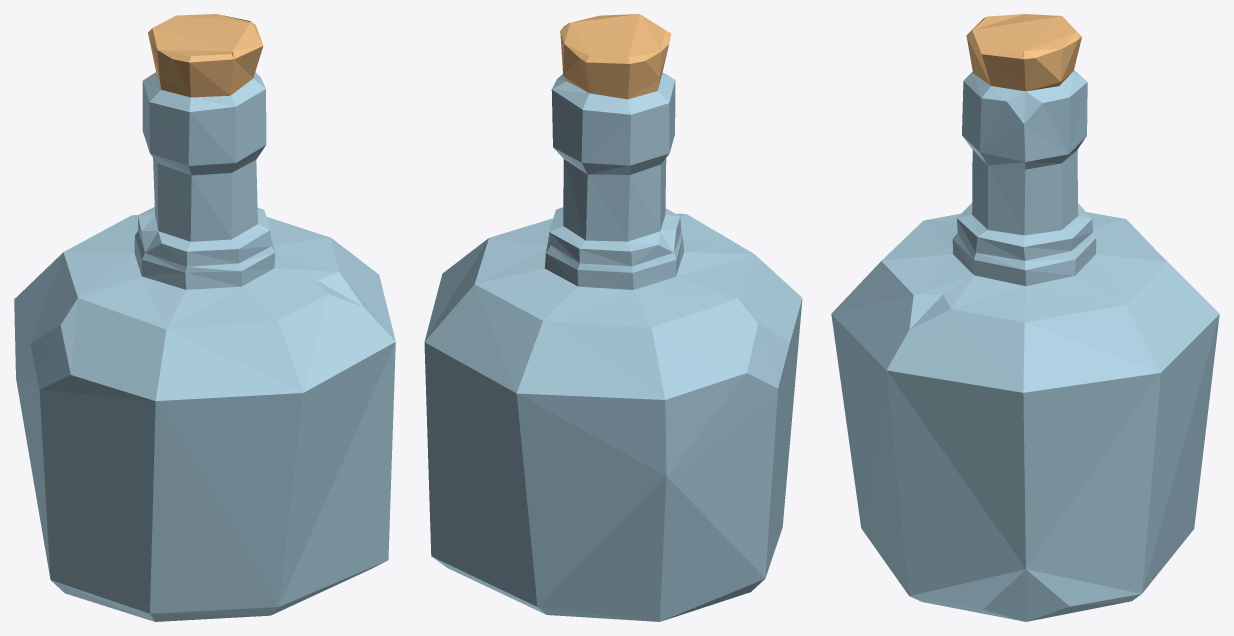
File: SFHW_Bottle_Liquid_021.fbx
The picture shows the model from 3 angles, left to right: view 1: azimuth 30°, elevation 25°; view 2: azimuth 150°, elevation 25°; view 3: azimuth 270°, elevation 25°; orthographic projection.
Parts seen in each view (by area): view 1: SFHW_Bottle_Liquid_021; view 2: SFHW_Bottle_Liquid_021; view 3: SFHW_Bottle_Liquid_021.
Boxes of the visible parts, x1,y1,x2,y2 form: SFHW_Bottle_Liquid_021: (14, 14, 395, 621); SFHW_Bottle_Liquid_021: (424, 14, 802, 621); SFHW_Bottle_Liquid_021: (831, 14, 1219, 621).
Size of the model in its own units: 17.86 by 26.63 by 18.04.
